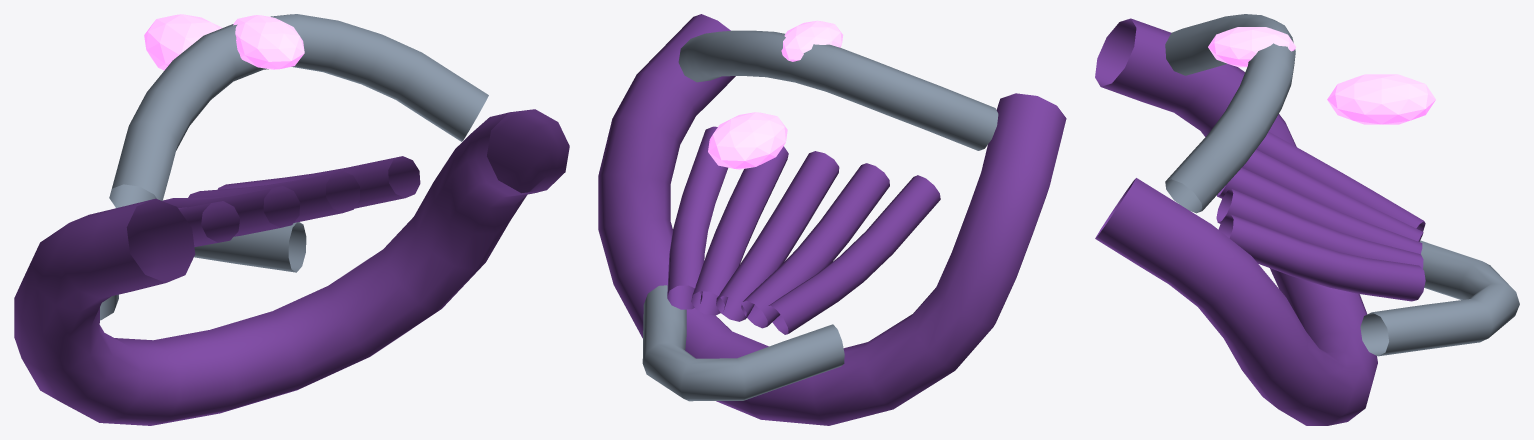
Rendered from helmet_eclipse.glb.
3 renders of one model, left to right at view 1: azimuth 30°, elevation 25°; view 2: azimuth 150°, elevation 25°; view 3: azimuth 270°, elevation 25°, orthographic. The views are drawn at different scales.
Visible parts, largest first — view 1: CrownBand, BrowGuard, CrescentCrest, CrownRib.004, CrownRib.003, CrownRib.002, ForeheadGem, HelmGem, CrownRib.001; view 2: CrownBand, BrowGuard, CrescentCrest, CrownRib, CrownRib.001, CrownRib.002, CrownRib.003, CrownRib.004, HelmGem, ForeheadGem; view 3: CrownBand, BrowGuard, CrescentCrest, CrownRib.004, HelmGem, CrownRib.003, CrownRib.002, CrownRib.001, CrownRib, ForeheadGem.
Part boxes in pixels (x1=…): CrownBand: x1=14, y1=109, x2=569, y2=425; BrowGuard: x1=109, y1=14, x2=488, y2=208; CrescentCrest: x1=100, y1=222, x2=306, y2=320; CrownRib.004: x1=218, y1=156, x2=420, y2=208; CrownRib.003: x1=188, y1=171, x2=359, y2=222; CrownRib.002: x1=163, y1=186, x2=300, y2=236; ForeheadGem: x1=233, y1=15, x2=304, y2=69; HelmGem: x1=144, y1=14, x2=222, y2=70; CrownRib.001: x1=178, y1=201, x2=239, y2=246; CrownBand: x1=598, y1=14, x2=1066, y2=425; BrowGuard: x1=678, y1=30, x2=998, y2=150; CrescentCrest: x1=642, y1=285, x2=844, y2=401; CrownRib: x1=768, y1=175, x2=940, y2=334; CrownRib.001: x1=741, y1=163, x2=889, y2=328; CrownRib.002: x1=716, y1=151, x2=839, y2=321; CrownRib.003: x1=691, y1=146, x2=788, y2=315; CrownRib.004: x1=667, y1=126, x2=727, y2=309; HelmGem: x1=708, y1=112, x2=787, y2=169; ForeheadGem: x1=781, y1=20, x2=843, y2=61; CrownBand: x1=1095, y1=18, x2=1377, y2=425; BrowGuard: x1=1165, y1=14, x2=1295, y2=213; CrescentCrest: x1=1360, y1=240, x2=1519, y2=356; CrownRib.004: x1=1218, y1=214, x2=1425, y2=301; HelmGem: x1=1327, y1=74, x2=1435, y2=124; CrownRib.003: x1=1216, y1=189, x2=1423, y2=268; CrownRib.002: x1=1217, y1=168, x2=1422, y2=253; CrownRib.001: x1=1242, y1=149, x2=1423, y2=241; CrownRib: x1=1256, y1=131, x2=1425, y2=231; ForeheadGem: x1=1208, y1=27, x2=1295, y2=67.
Bounding box in the file's own units: 0.7287 × 0.5964 × 0.6234.
